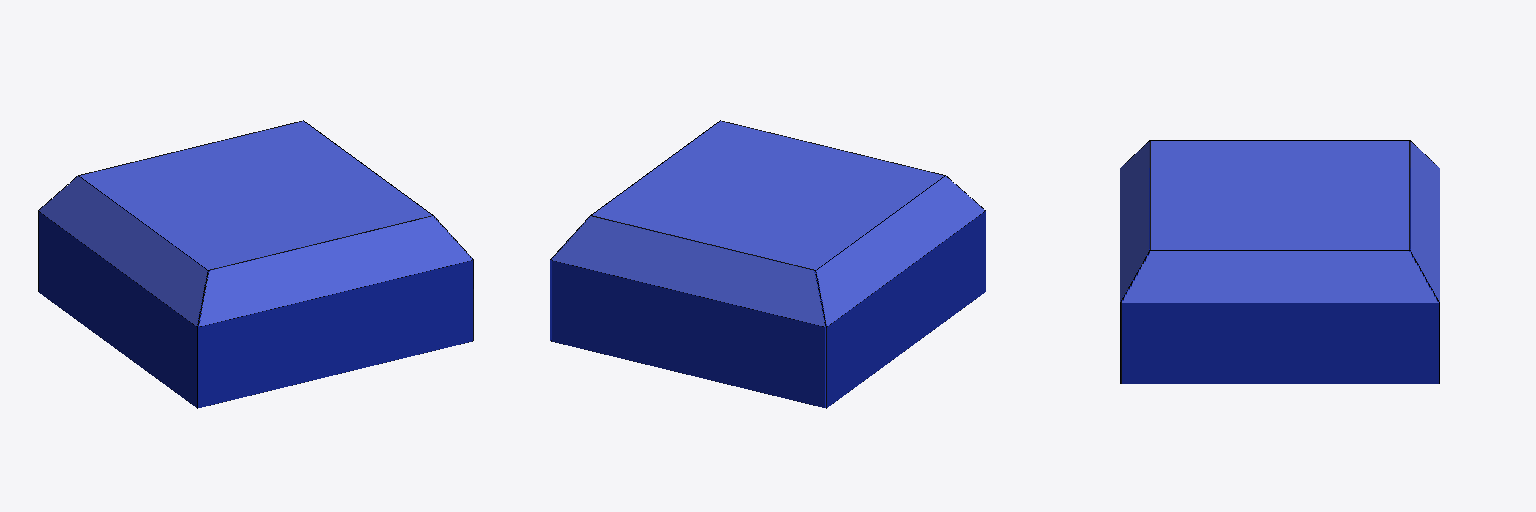
3 views of the same model, side by side, from view 1: azimuth 30°, elevation 25°; view 2: azimuth 150°, elevation 25°; view 3: azimuth 270°, elevation 25° (orthographic).
Parts seen in each view (by area): view 1: Cube; view 2: Cube; view 3: Cube.
Part boxes in pixels (x1,y1,x2,y2): Cube: (38, 120, 473, 408); Cube: (550, 120, 985, 408); Cube: (1120, 140, 1439, 383).
Bounding box in the file's own units: 2 × 0.8355 × 2.
1 materials, 1 textured.